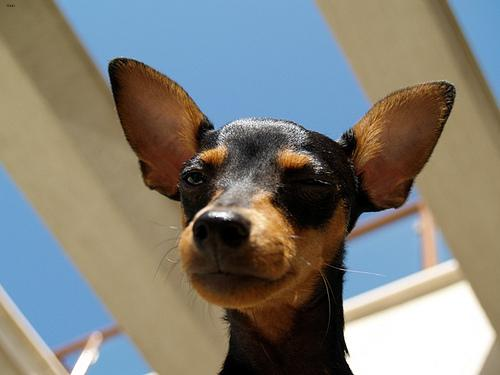dog-miniature_pinscher: (106, 55, 454, 307)
